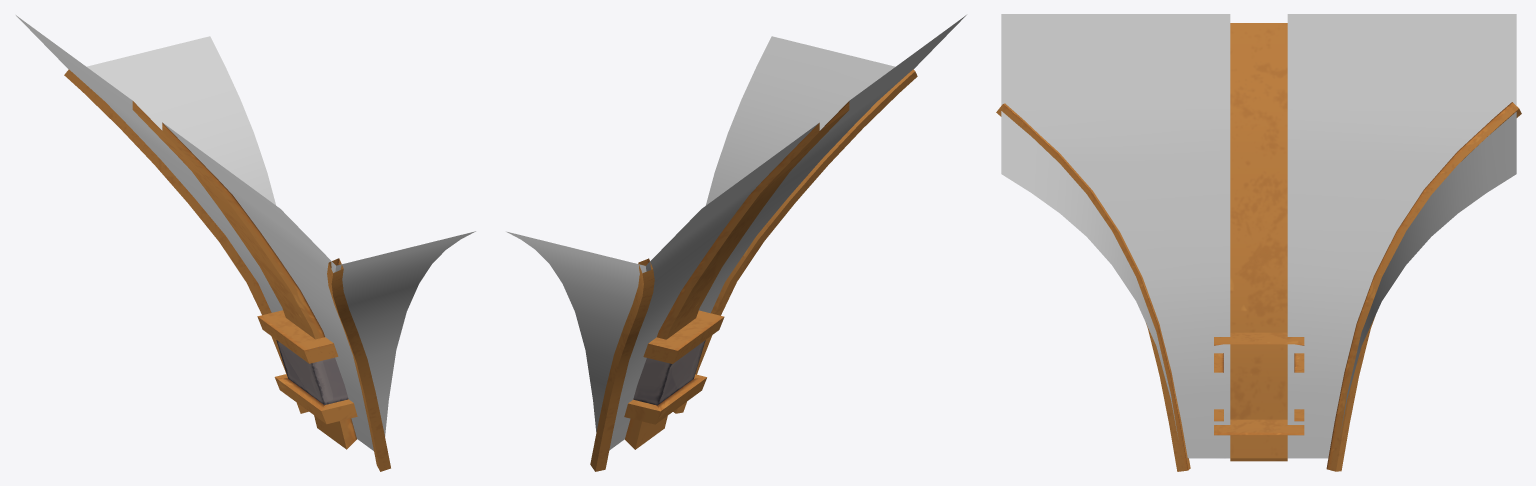
The model's file is SM_CeilingArchBorder_02.fbx.
3 renders of one model, left to right at view 1: azimuth 30°, elevation 25°; view 2: azimuth 150°, elevation 25°; view 3: azimuth 270°, elevation 25°, orthographic. The views are drawn at different scales.
Visible parts, largest first — view 1: SM_CeilingArchBorder_02; view 2: SM_CeilingArchBorder_02; view 3: SM_CeilingArchBorder_02.
Boxes of the visible parts, x1,y1,x2,y2 form: SM_CeilingArchBorder_02: (16,15,475,471); SM_CeilingArchBorder_02: (506,15,966,471); SM_CeilingArchBorder_02: (996,14,1521,471).
Bounding box in the file's own units: 1.81 × 3.13 × 4.08.
